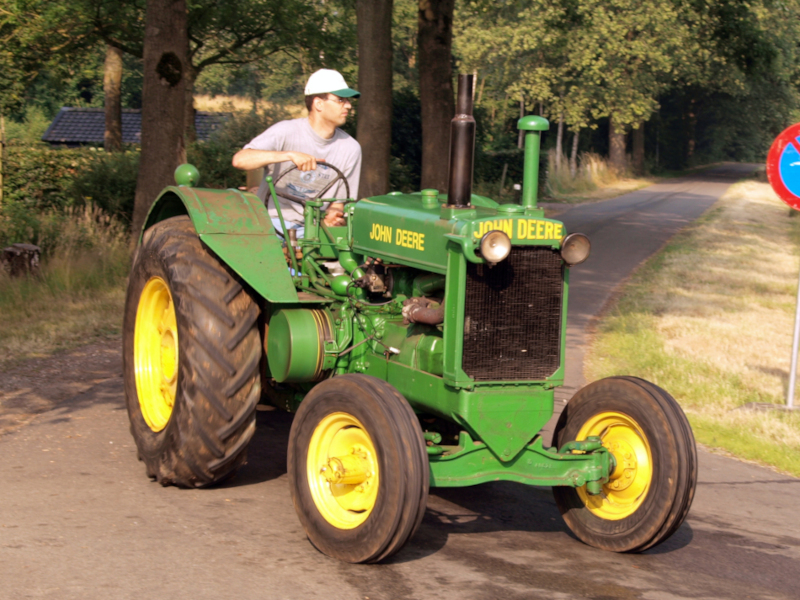tractor: (119, 112, 701, 566)
